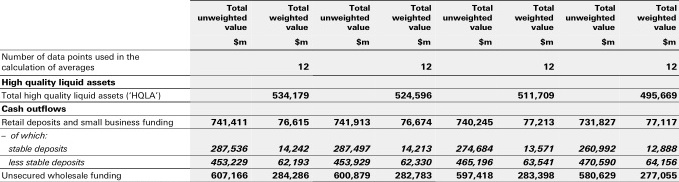column: (1, 1, 174, 182), (197, 1, 249, 182), (565, 1, 616, 182), (443, 1, 493, 182), (320, 1, 370, 181), (269, 1, 311, 182), (637, 1, 678, 182), (515, 1, 556, 181), (393, 1, 433, 182)
columnw: (1, 1, 174, 181), (320, 1, 373, 182), (442, 1, 494, 182), (565, 1, 617, 182), (197, 1, 248, 182), (268, 1, 312, 182), (513, 1, 557, 182), (637, 1, 679, 181), (392, 1, 433, 182)
row: (1, 131, 679, 142), (1, 78, 679, 88), (1, 171, 679, 181), (1, 145, 679, 154), (1, 158, 679, 167), (1, 37, 678, 46), (1, 105, 678, 114), (4, 14, 679, 23), (1, 4, 679, 12), (1, 118, 679, 126), (1, 63, 678, 71), (1, 25, 679, 32), (1, 53, 679, 60), (1, 92, 678, 99)
